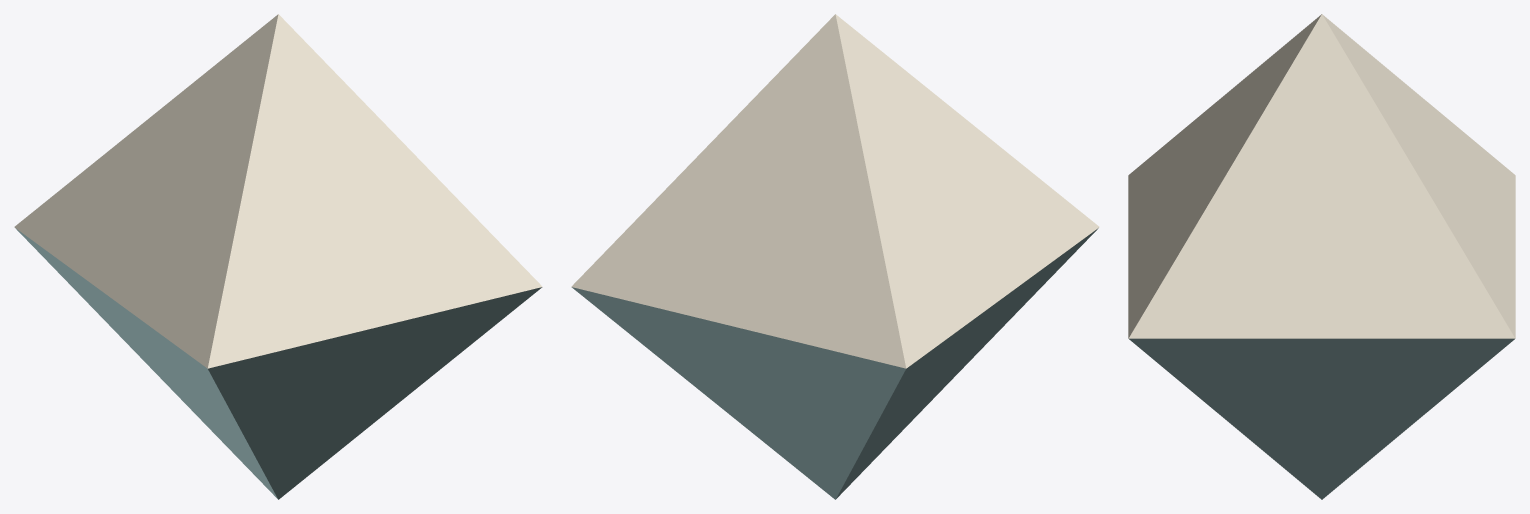
3 renders of one model, left to right at view 1: azimuth 30°, elevation 25°; view 2: azimuth 150°, elevation 25°; view 3: azimuth 270°, elevation 25°, orthographic.
Size of the model in its own units: 1.66 by 2.3 by 1.66.
